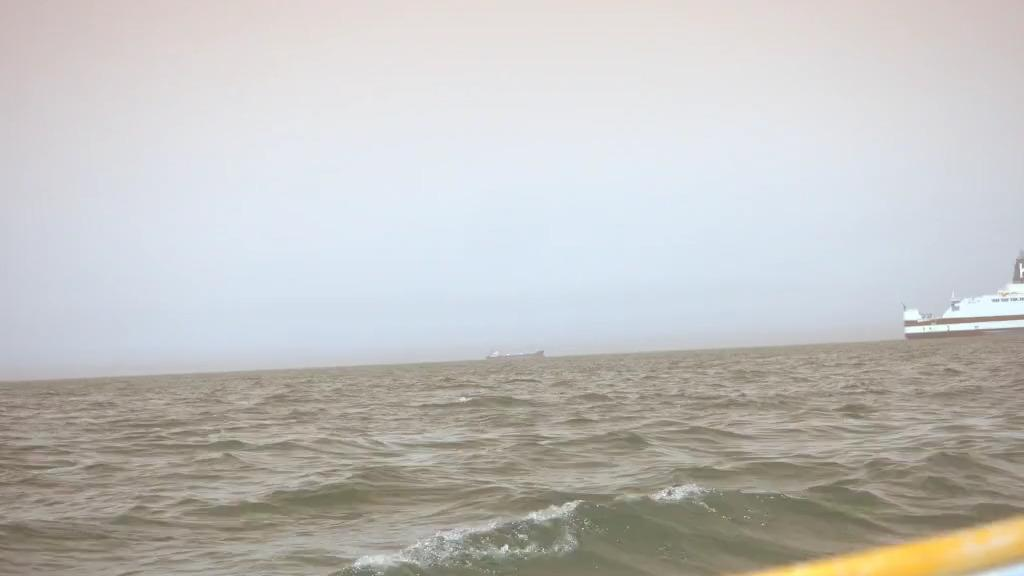PassengerShip: (890, 250, 1024, 348)
